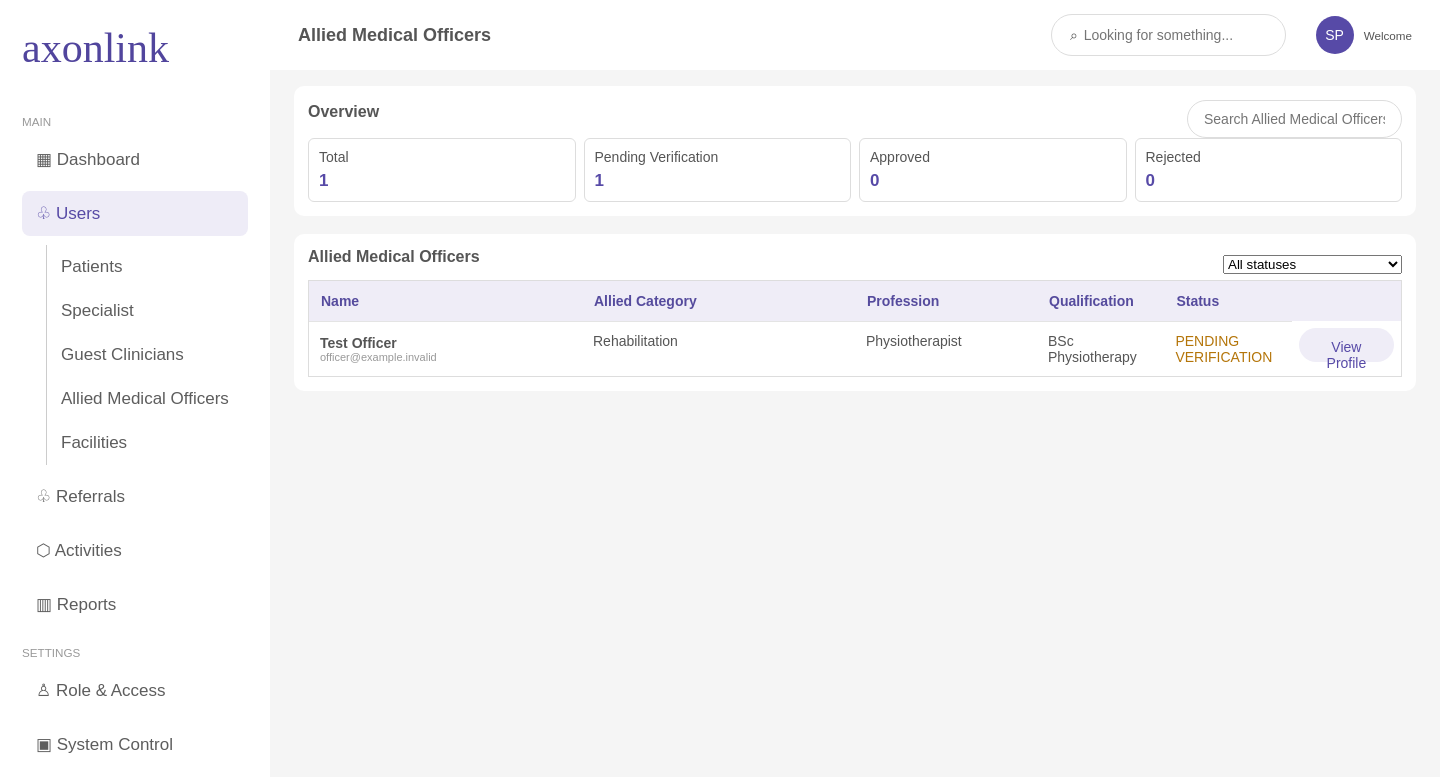
Test case: lists email/category/profession and reuses search and verification filtering
Expected: the text "officer@example.invalid" is shown, [320,351,437,363]
Expected: the text "Physiotherapist" is shown, [855,321,1037,376]
Select "REJECTED" in the dropdown named "Verification status": (1312, 264) [1223,254,1402,274]
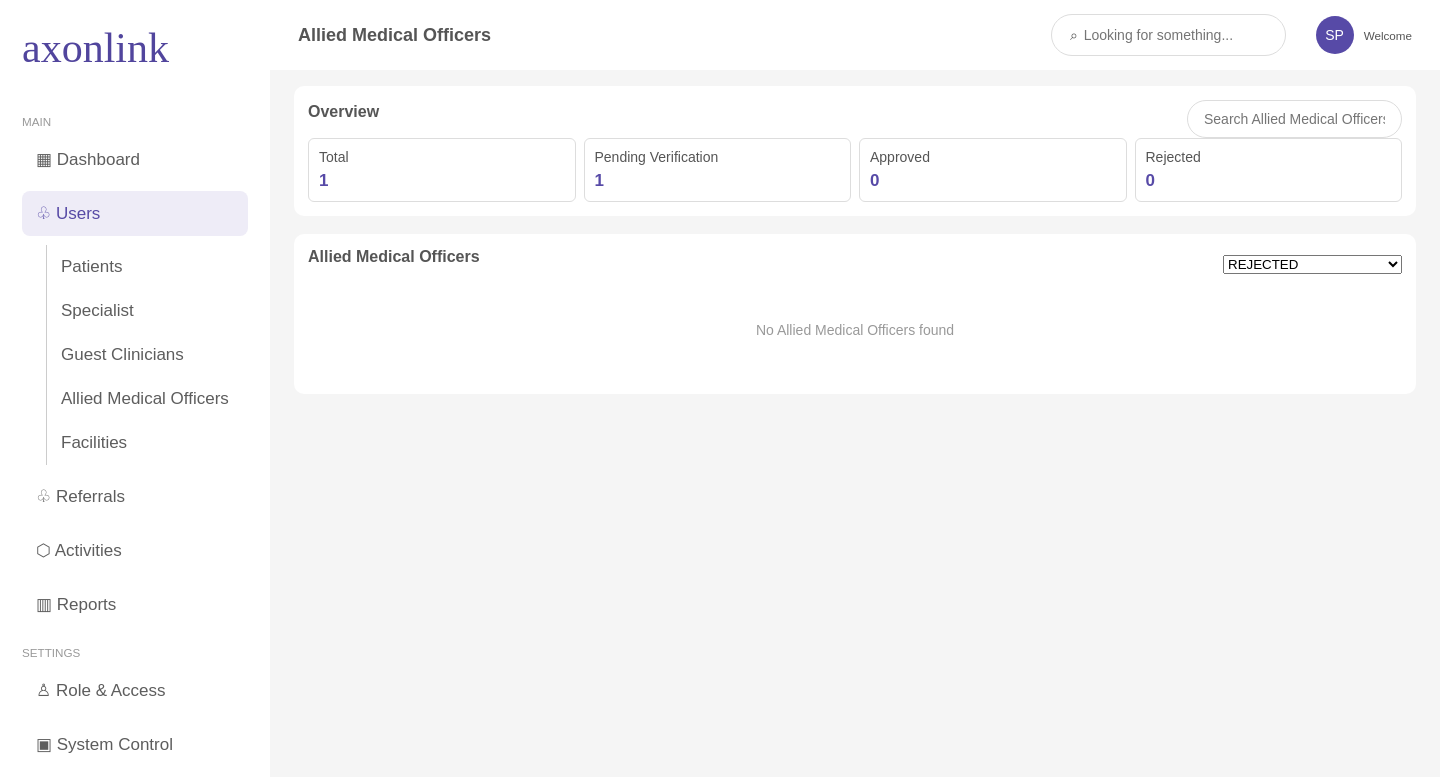
Expected: the button "View Profile" is gone
Select "All statuses" in the dropdown: (1312, 264) [1223,254,1402,274]
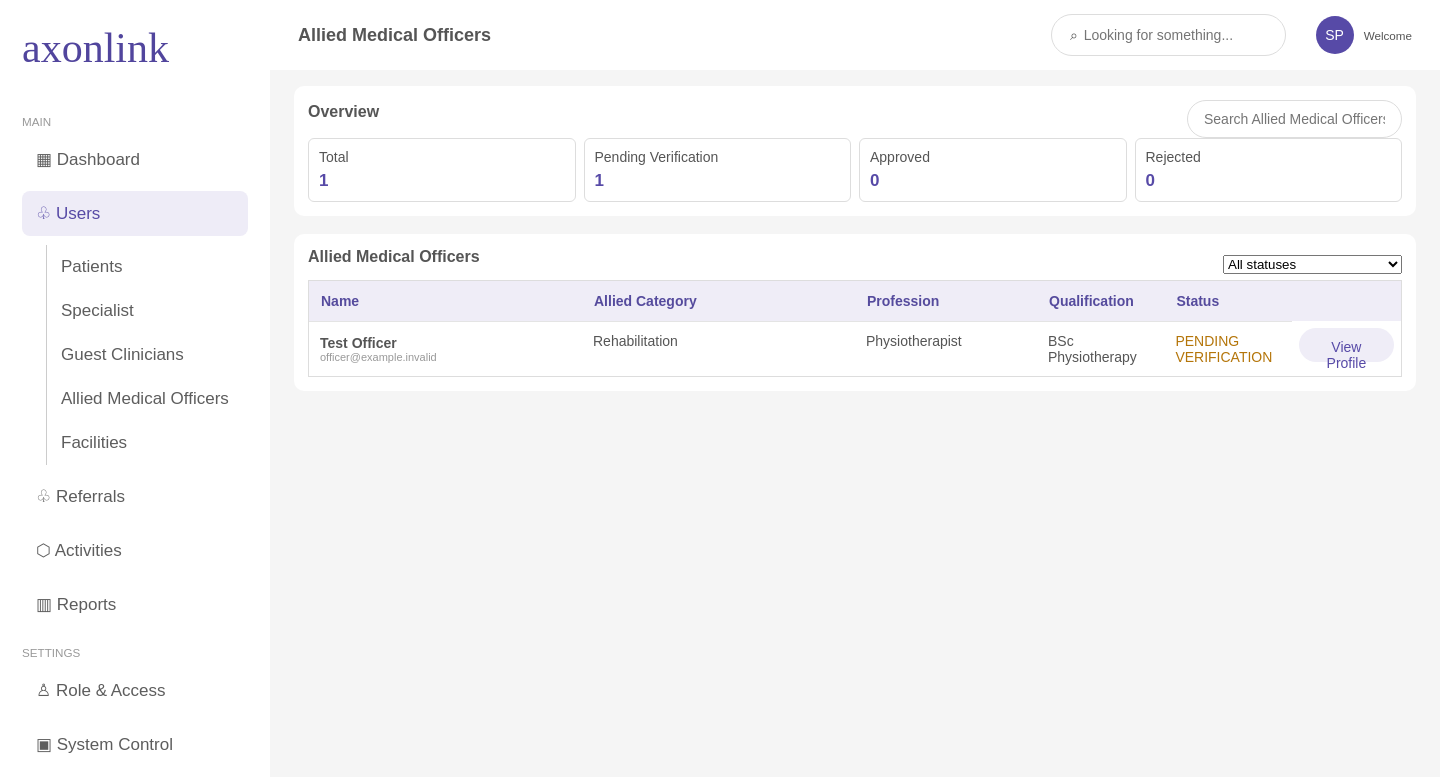
In the field labelled "Search Allied Medical Officers": (1294, 119) [1187,100,1402,138], type "no match"
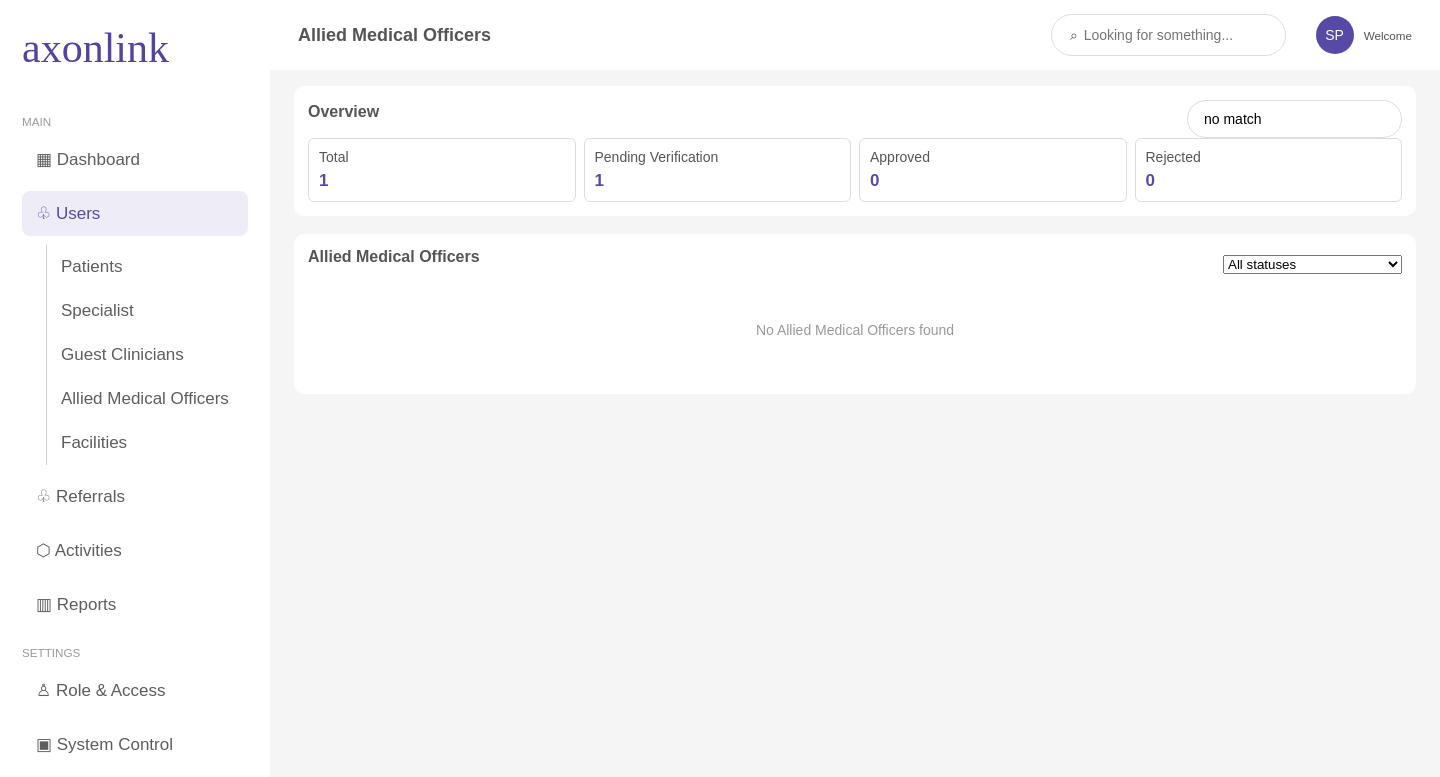
Expected: the text "No Allied Medical Officers found" is shown, [756,322,954,338]
